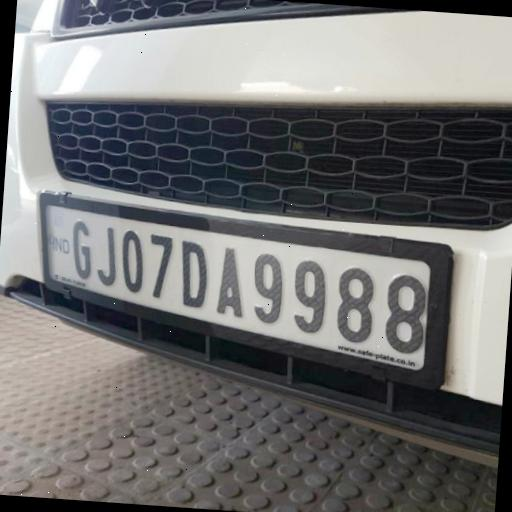number plate: (28, 188, 466, 378)
